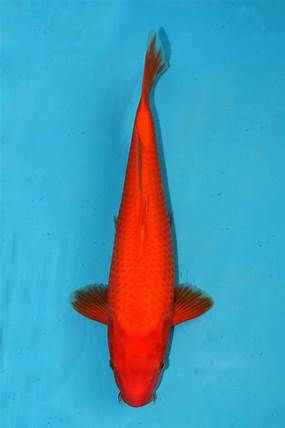red: (71, 29, 217, 406)
